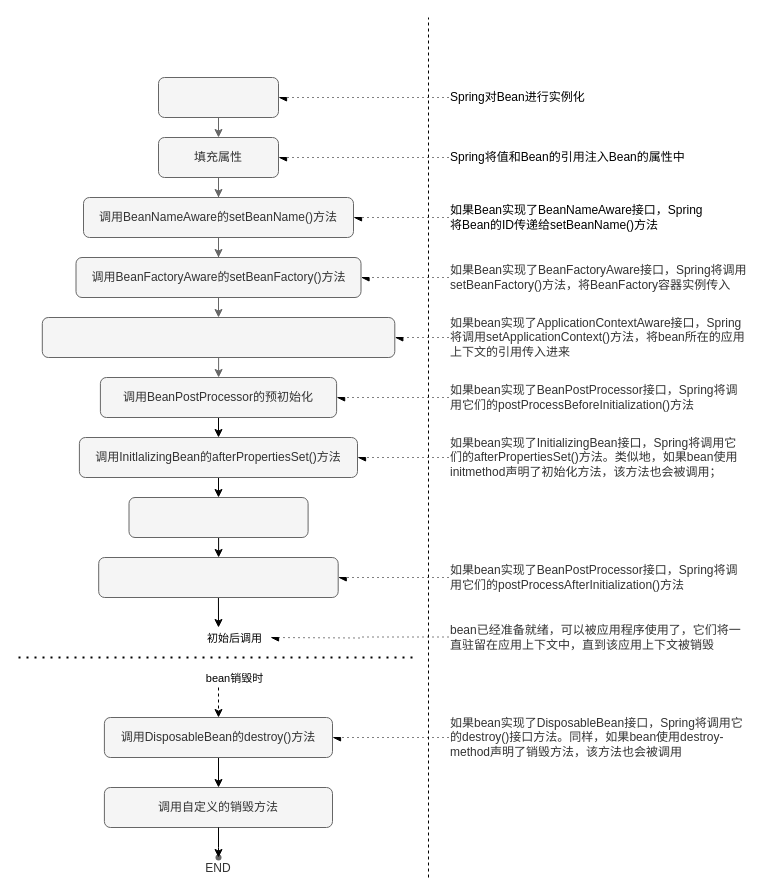
Image size: 765x896. Some labels were removed from this diagram. The shapes that lost their labels are listed below. From the top down, each one's centre as x and y in pixels, then its label:
At (218,97): "实例化".
At (218,337): "调用ApplicationContextAware的setApplicationContext()方法".
At (218,517): "调用自定义的初始化方法".
At (218,577): "调用BeanPostProcessor的初始后方法".
